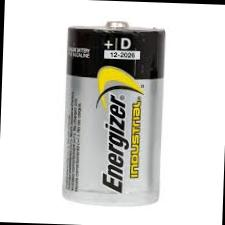battery: (38, 13, 186, 213)
